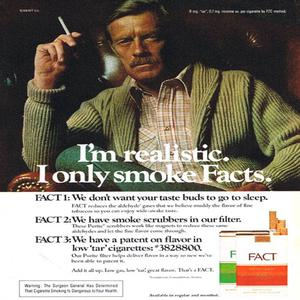cigarette: (58, 14, 77, 44)
